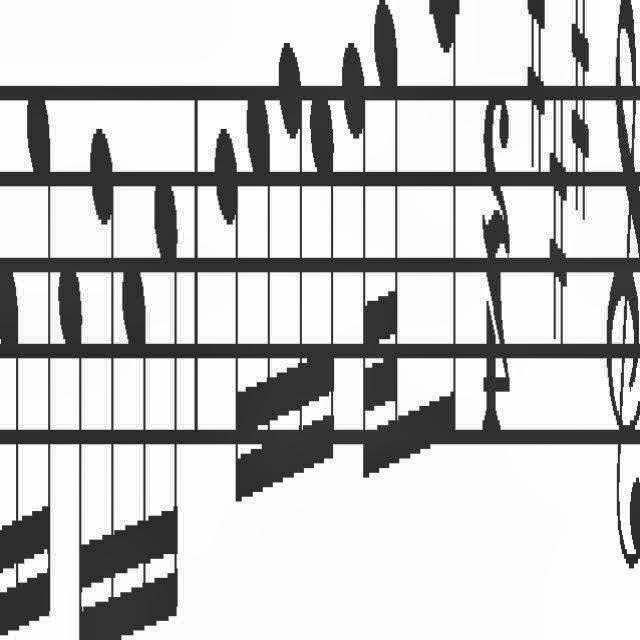Bass-clef: (604, 0, 639, 572)
Diez: (548, 92, 568, 356), (570, 0, 590, 220), (526, 0, 546, 176)
Eighth-note: (427, 0, 460, 448)
Sixteenth-note: (26, 76, 54, 636), (90, 119, 115, 640), (278, 33, 306, 495), (58, 258, 90, 640), (154, 172, 180, 640), (215, 112, 245, 514), (121, 252, 151, 640), (309, 75, 335, 489), (248, 82, 272, 510), (1, 248, 20, 640)
